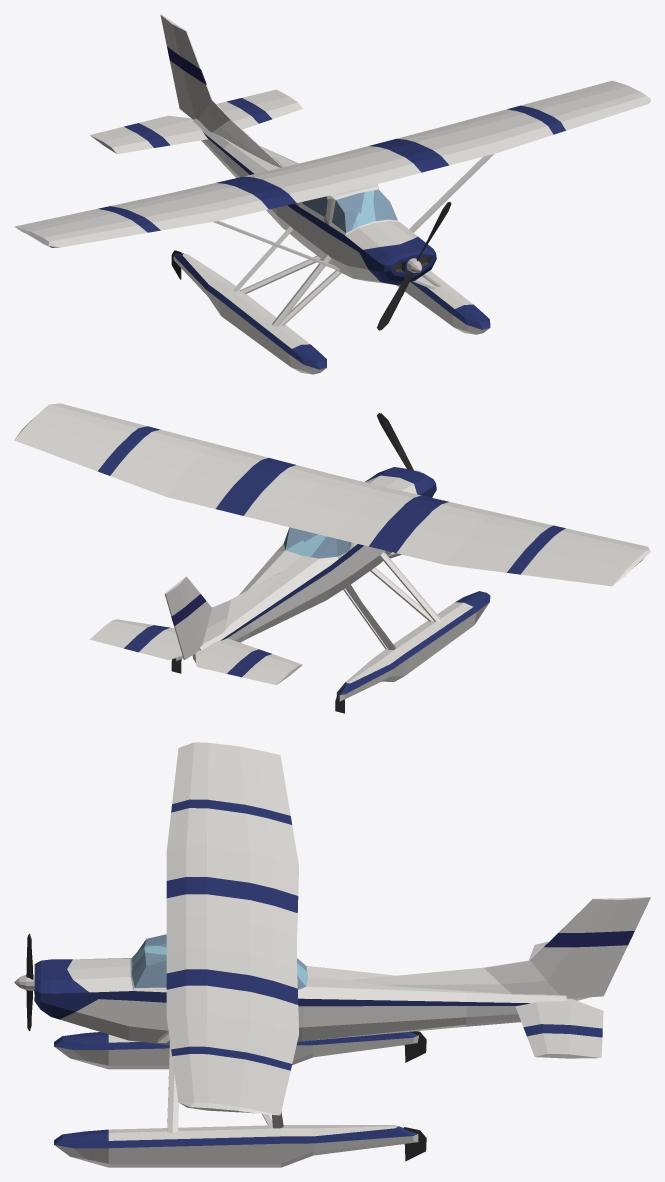
File: Float Plane C.fbx
3 renders of one model, top to bottom at view 1: azimuth 30°, elevation 25°; view 2: azimuth 150°, elevation 25°; view 3: azimuth 270°, elevation 25°, orthographic. The views are drawn at different scales.
Visible parts, largest first — view 1: Float Plane C; view 2: Float Plane C; view 3: Float Plane C.
Part boxes in pixels (x1,y1,x2,y2): Float Plane C: [14, 14, 650, 374]; Float Plane C: [14, 403, 650, 713]; Float Plane C: [14, 742, 650, 1167].
Size of the model in its own units: 1379 by 390 by 1022.
